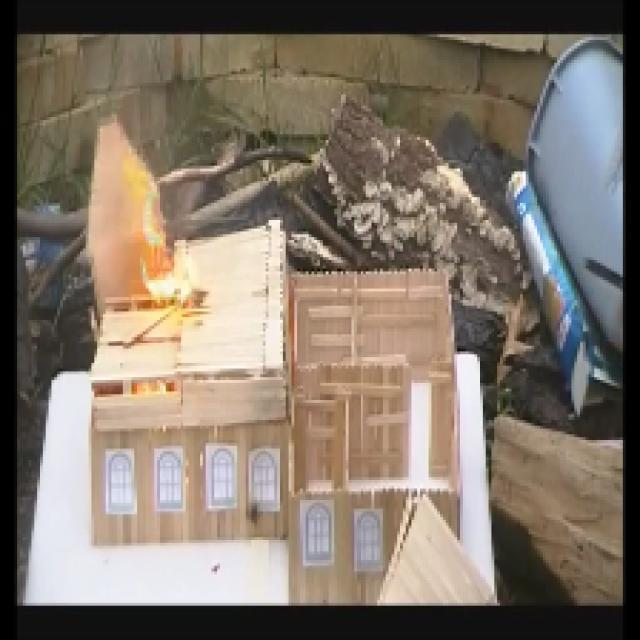Fire: (91, 99, 205, 332)
